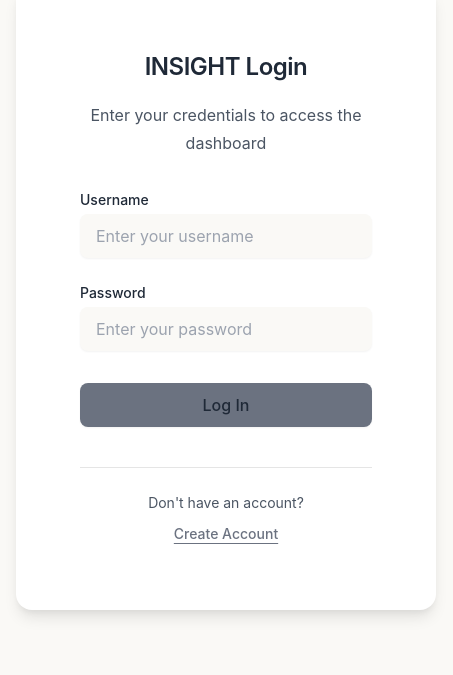
Test: LoginFlow - Comprehensive Tests with New Matte Design › Error Handling with Detailed Logging › should show error message on failed login attempt with logging
This screenshot has width=453, height=675.
Type "wronguser" into the field labelled "Username" at (226, 236), box [80,214,372,258]
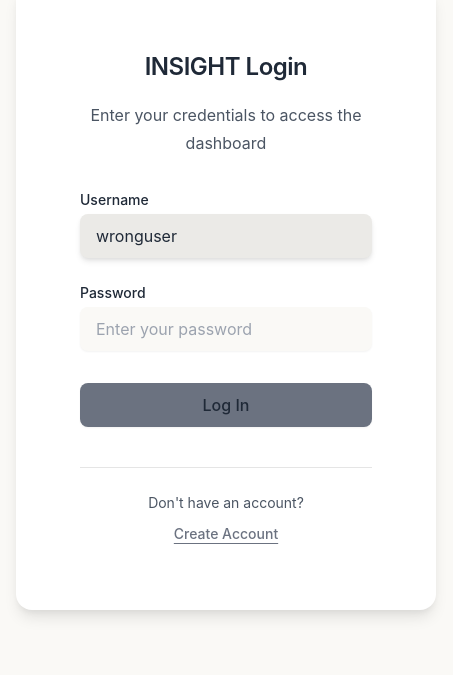
Type "wrongpass" into the password field labelled "Password" at (226, 328), box [80,306,372,350]
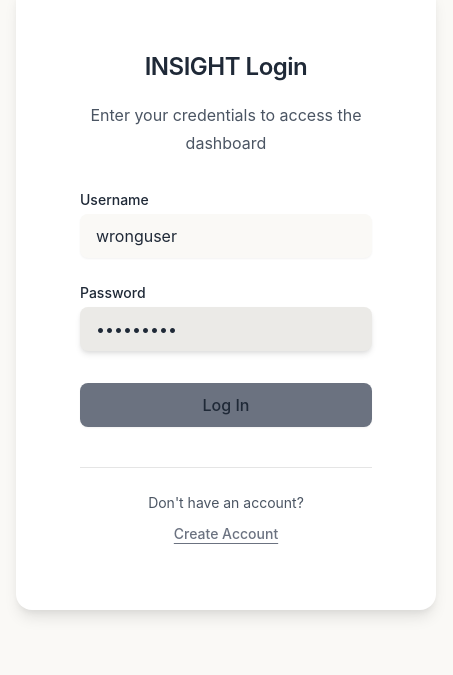
Click the button "Log In" at (226, 404), box [80,382,372,426]
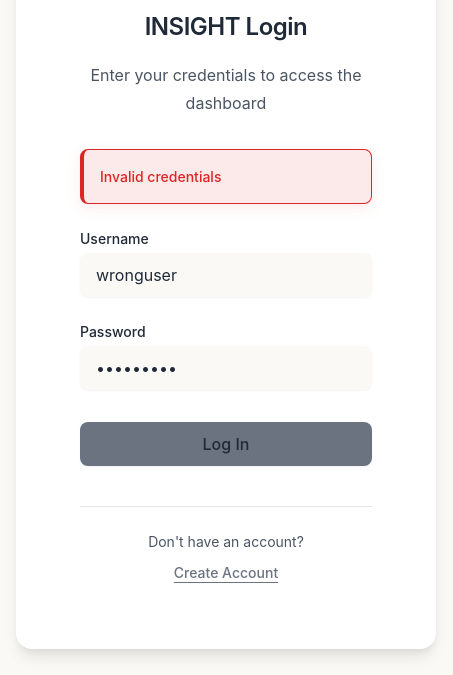
Expected: the text "Invalid credentials" is shown, [80,149,372,204]
